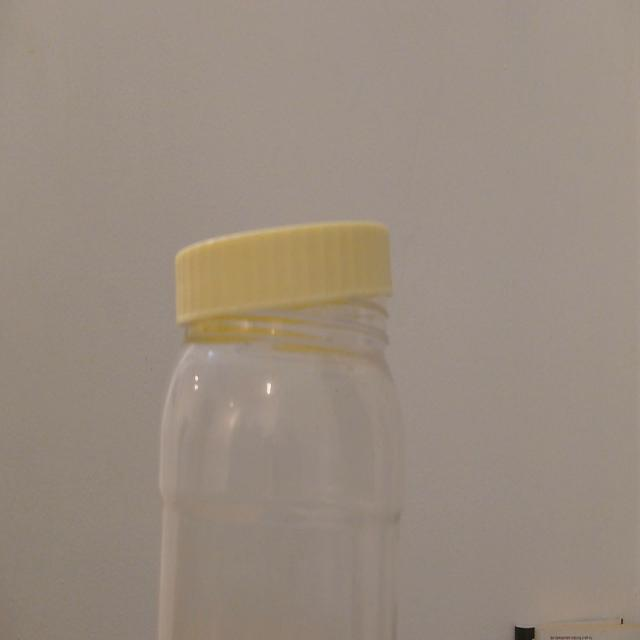cap: (148, 202, 432, 361)
